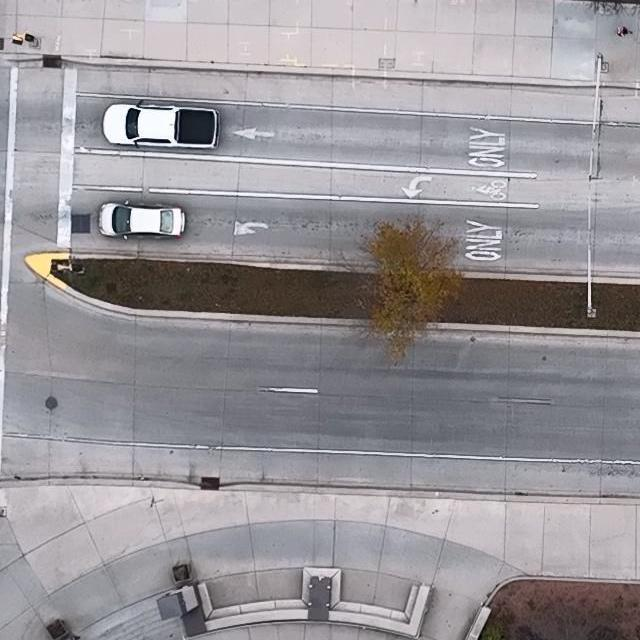car: (103, 98, 222, 150), (99, 199, 187, 241)
